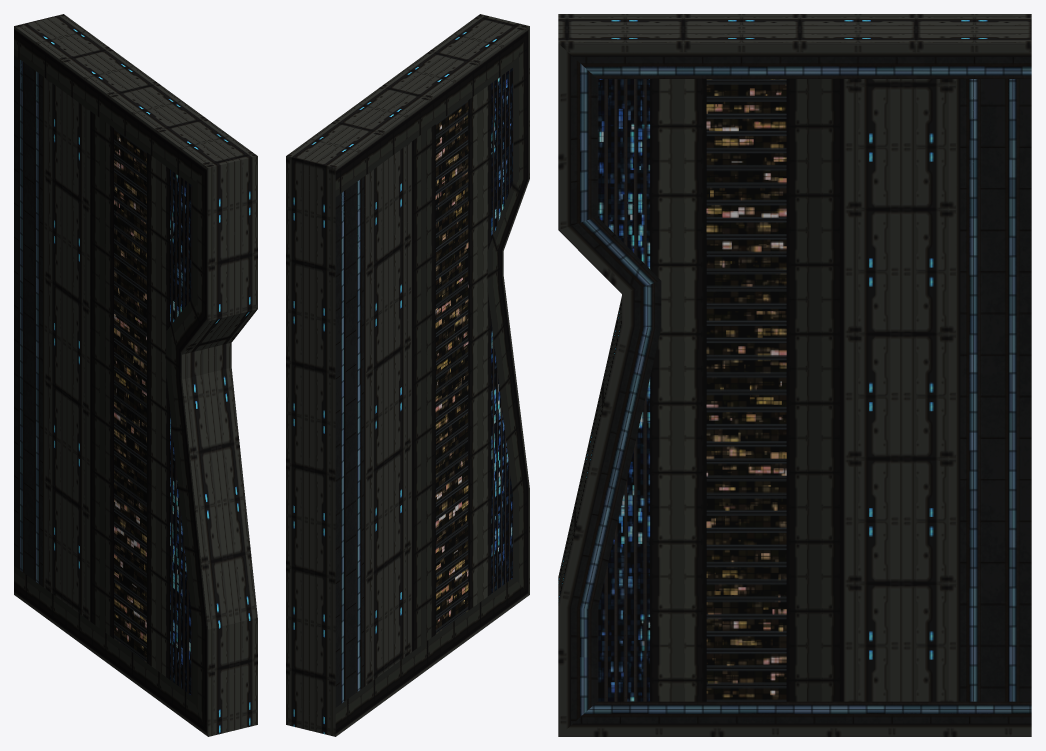
File: Ultra_Addon3.fbx
3 views of the same model, side by side, from view 1: azimuth 30°, elevation 25°; view 2: azimuth 150°, elevation 25°; view 3: azimuth 270°, elevation 25° (orthographic). The views are drawn at different scales.
Visible parts, largest first — view 1: pPlane31; view 2: pPlane31; view 3: pPlane31.
Part boxes in pixels (<box>): pPlane31: <box>14,14,257,736</box>; pPlane31: <box>286,14,529,736</box>; pPlane31: <box>558,14,1031,736</box>.
Size of the model in its own units: 1.25 by 13.67 by 8.46.
1 material, 1 textured.
